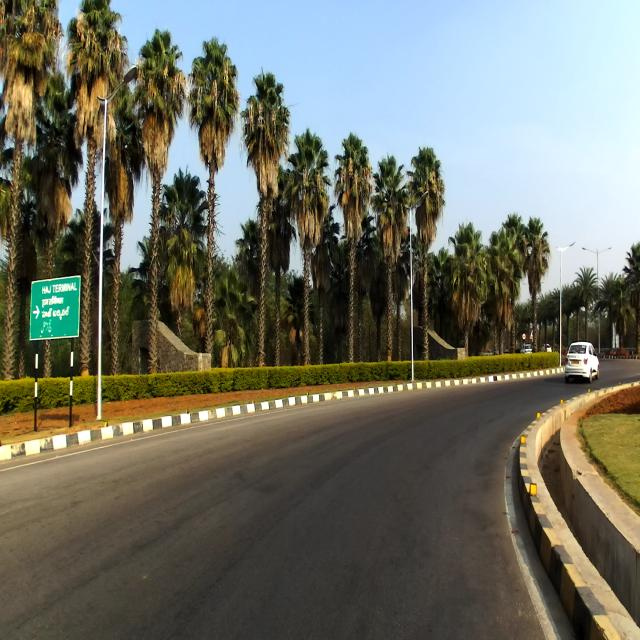sign board ahead at: (27, 281, 77, 436)
